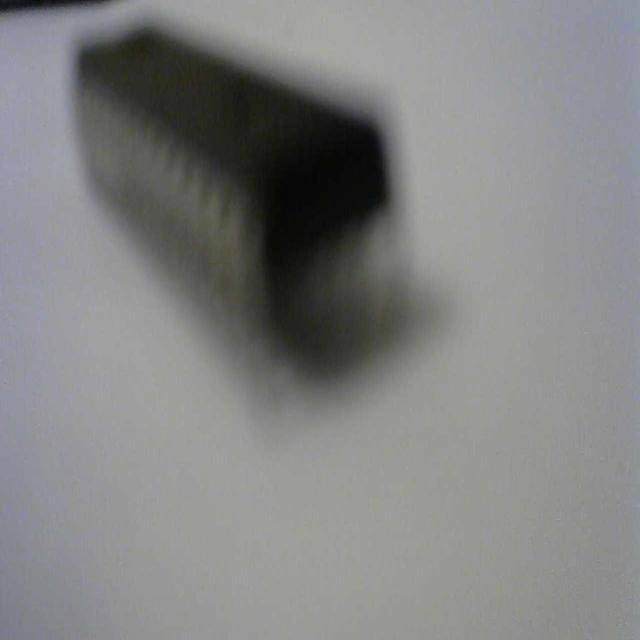atmega: (68, 15, 428, 392)
